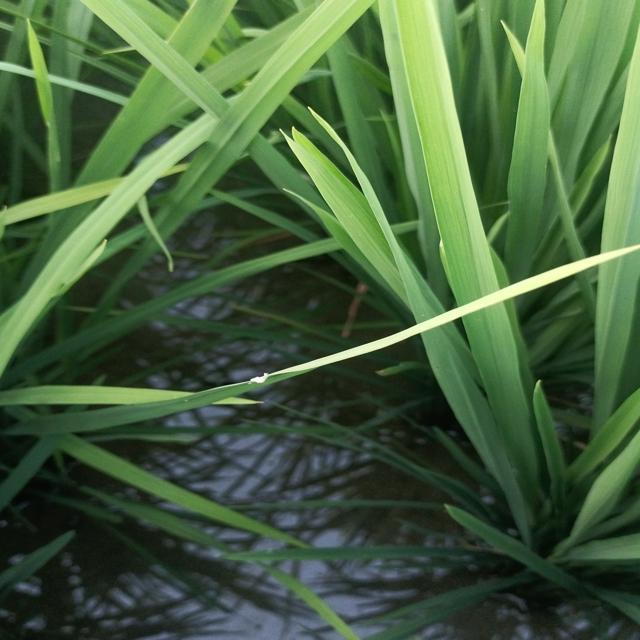Bacterial leaf blight: (222, 337, 499, 392)
